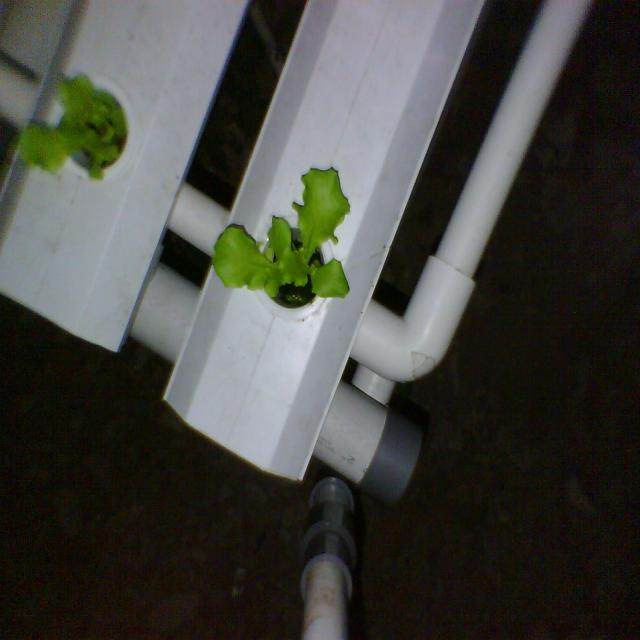FN: (208, 159, 358, 321), (9, 69, 131, 188)
